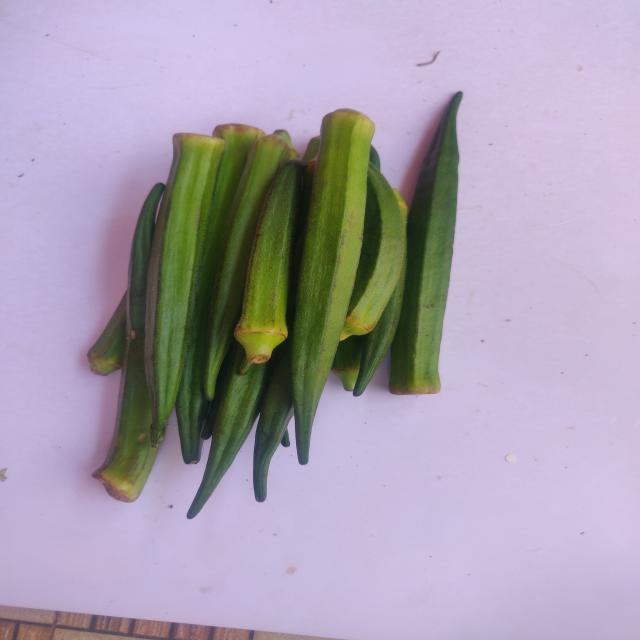Ladies Finger: (0, 0, 639, 640), (291, 108, 374, 465), (144, 132, 224, 445), (203, 130, 294, 400), (91, 183, 164, 503), (389, 91, 463, 395), (234, 158, 303, 364), (340, 164, 406, 341)
